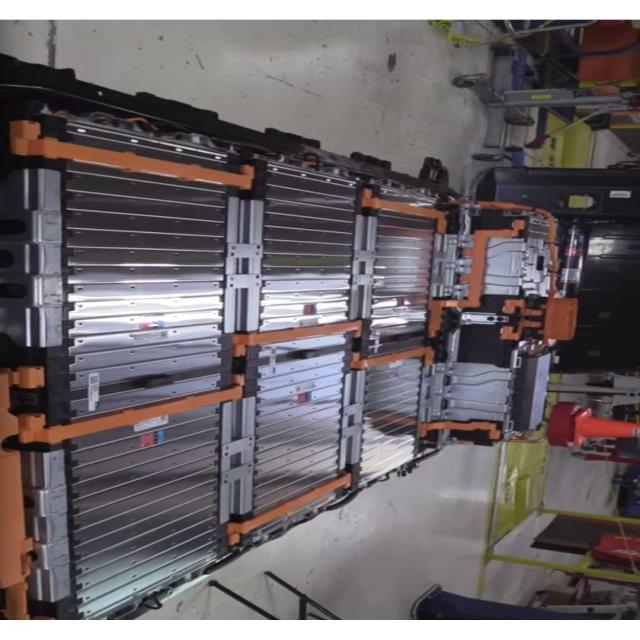Aluminum-frame: (15, 171, 62, 339), (224, 197, 261, 334), (220, 398, 255, 521), (454, 363, 504, 420), (351, 216, 376, 320), (342, 372, 366, 467), (488, 241, 519, 292), (433, 234, 458, 296), (420, 366, 444, 422)
Battery Module: (76, 164, 221, 412), (81, 409, 216, 607), (257, 334, 341, 509), (272, 171, 350, 328), (366, 359, 418, 481), (379, 213, 435, 326)
Bus-bar: (17, 122, 252, 188), (23, 376, 246, 442), (430, 220, 523, 337), (230, 475, 349, 544), (235, 321, 364, 356), (364, 189, 446, 232), (354, 348, 433, 368), (422, 422, 499, 439)
Cable: (482, 202, 558, 291)
Screw: (30, 451, 69, 598), (487, 316, 507, 322)
